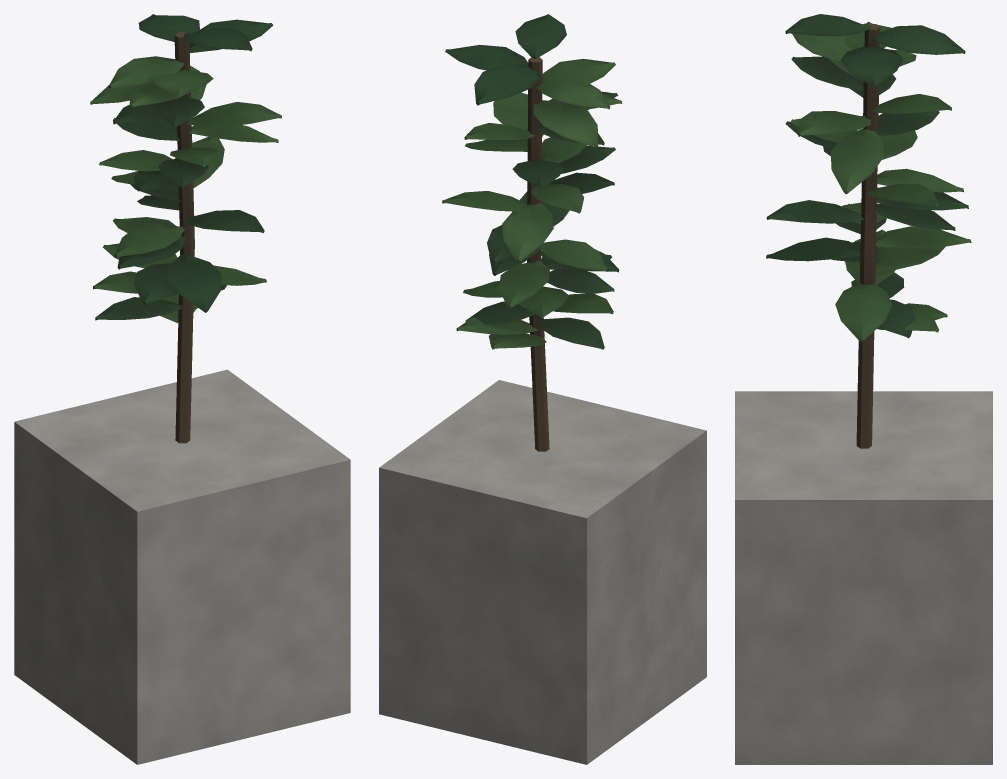
File: H_Planter.fbx
3 renders of one model, left to right at view 1: azimuth 30°, elevation 25°; view 2: azimuth 150°, elevation 25°; view 3: azimuth 270°, elevation 25°, orthographic. The views are drawn at different scales.
Parts seen in each view (by area): view 1: H_Planter__H_Planter, H_Planter__H_Planter_Tree; view 2: H_Planter__H_Planter, H_Planter__H_Planter_Tree; view 3: H_Planter__H_Planter, H_Planter__H_Planter_Tree.
Part boxes in pixels (x1,y1,x2,y2): H_Planter__H_Planter: [14, 369, 350, 764]; H_Planter__H_Planter_Tree: [90, 14, 281, 443]; H_Planter__H_Planter: [379, 380, 706, 764]; H_Planter__H_Planter_Tree: [442, 14, 622, 451]; H_Planter__H_Planter: [735, 391, 992, 764]; H_Planter__H_Planter_Tree: [766, 14, 971, 448].
Bounding box in the file's own units: 300 × 895 × 300.
Materials: 1 (1 with a texture image).
